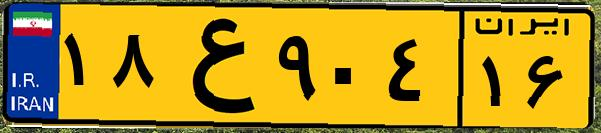0: (330, 28, 385, 110)
1: (57, 26, 110, 100), (475, 38, 525, 113)
4: (385, 28, 445, 110)
6: (525, 38, 570, 115)
8: (110, 28, 158, 98)
9: (270, 28, 330, 110)
ع: (158, 12, 270, 120)
